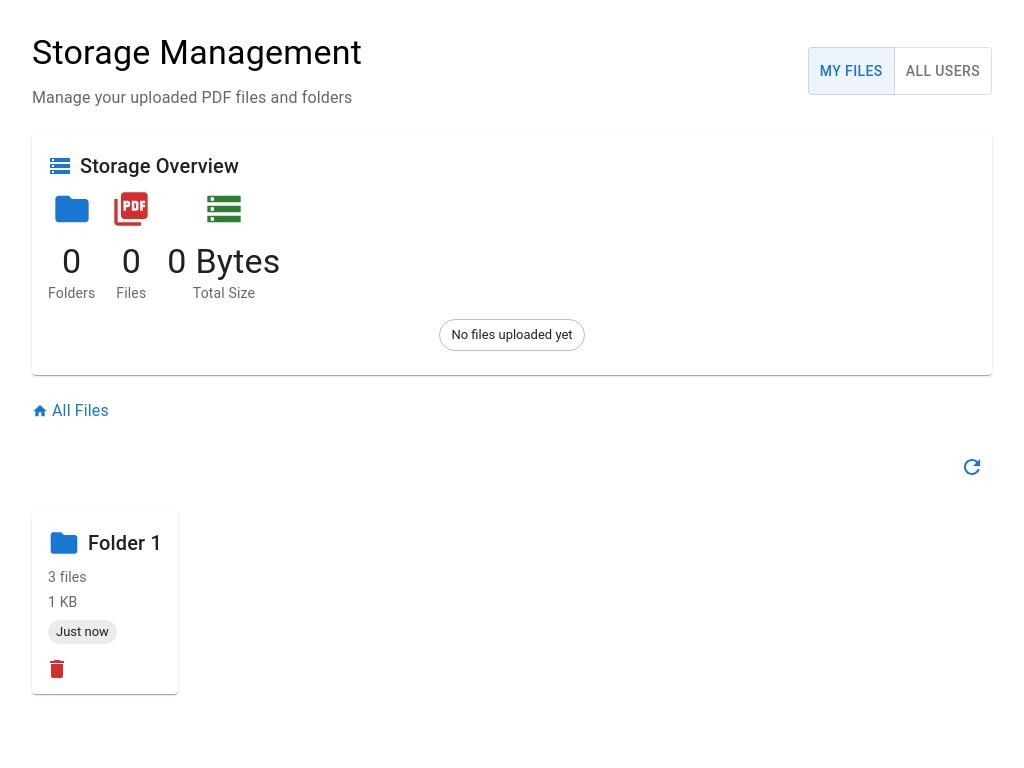
StorageManagementPage Multi-User View › should handle errors when loading admin view
This screenshot has width=1024, height=768.
# Switch to admin view
Click the button with test id "toggle-button-true" at (943, 71), box [894,47,992,95]
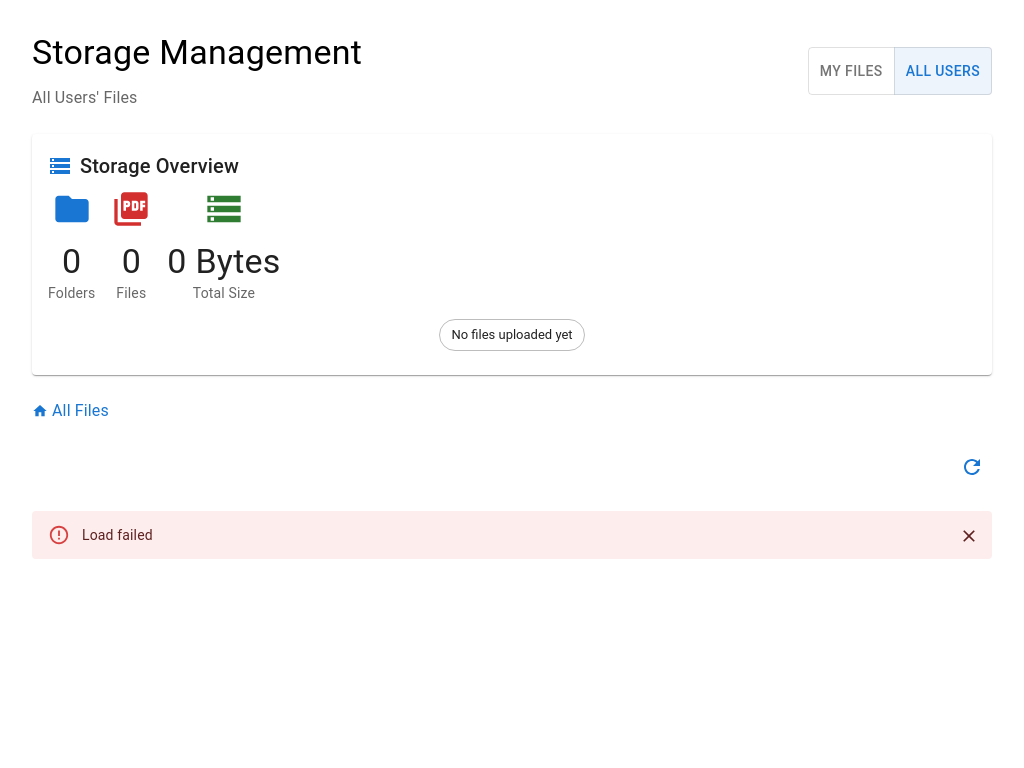
Check: the message "Load failed" is shown, box [32,511,992,559]
